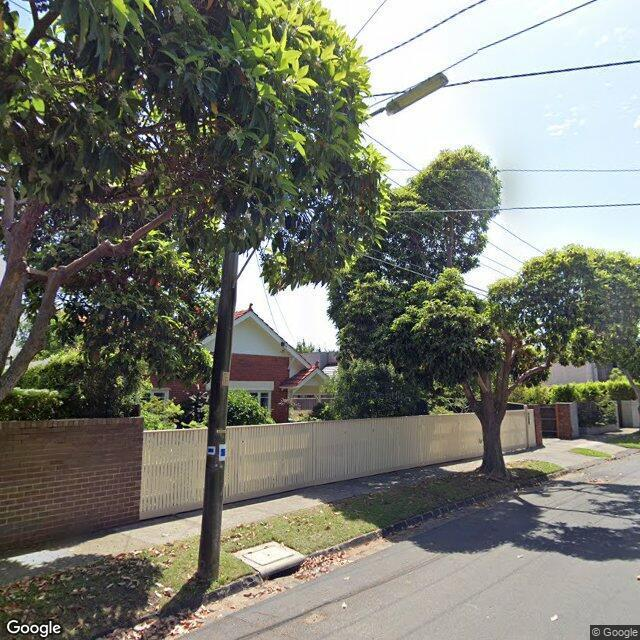streetlight: (360, 71, 450, 126)
timber-pole: (198, 232, 239, 578)
